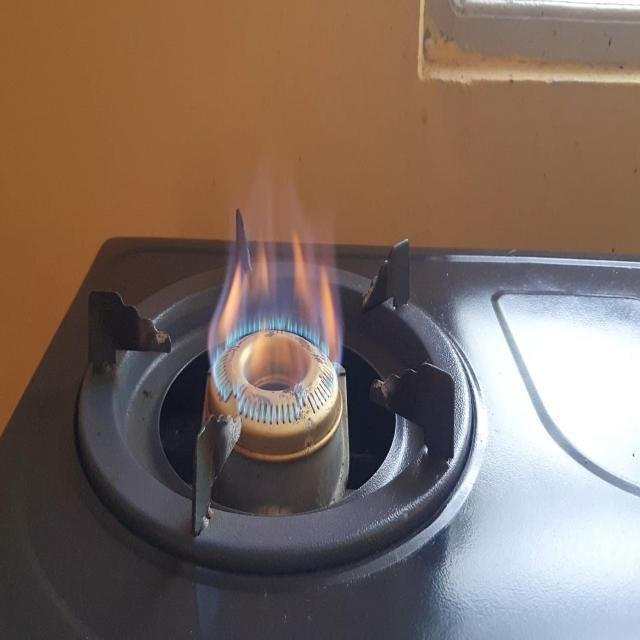Flame: (218, 229, 360, 447)
